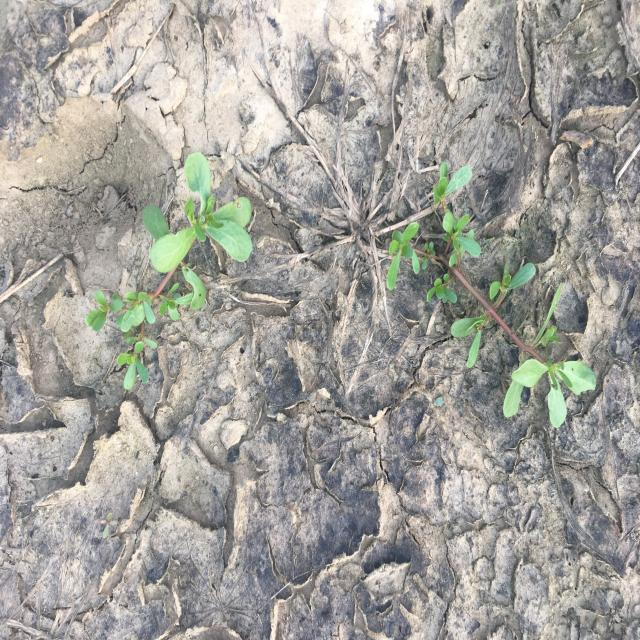Purslane: (384, 159, 597, 430), (85, 150, 254, 391)
